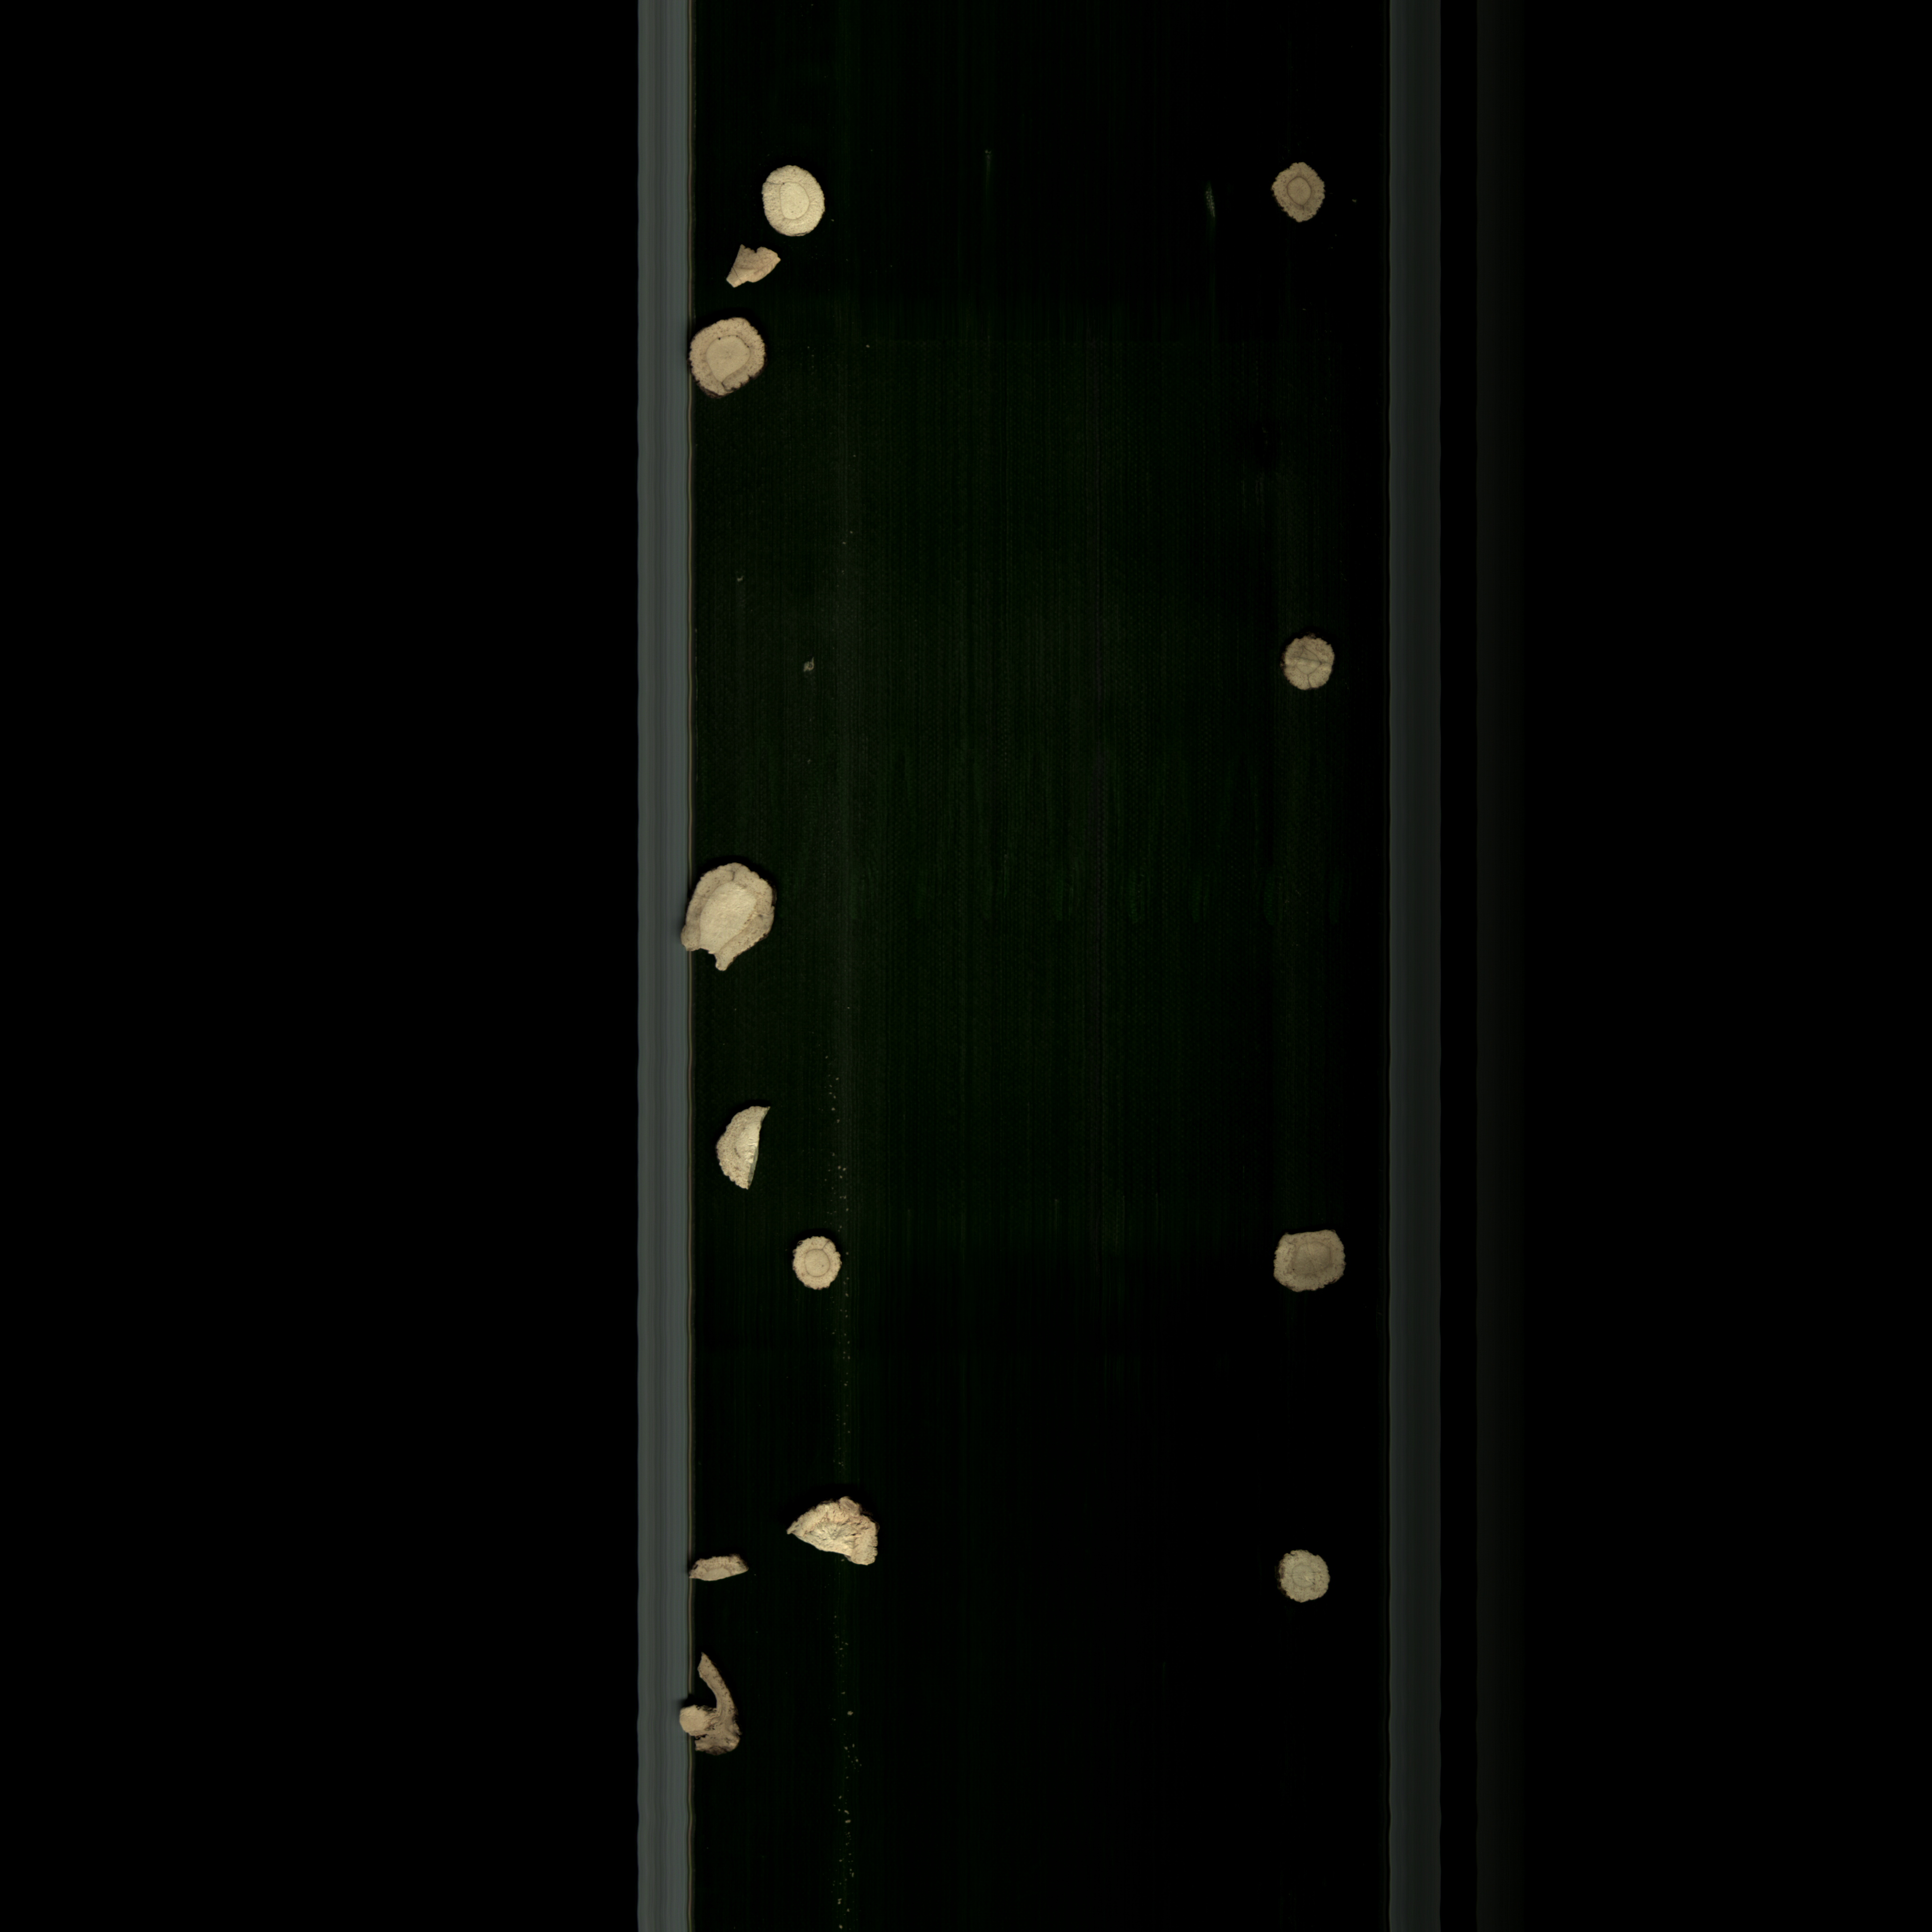debris: (672, 853, 778, 985), (784, 1486, 901, 1580), (672, 1652, 759, 1769), (708, 1095, 786, 1200)
dreg: (720, 237, 791, 297), (685, 1541, 755, 1594)
moldy: (688, 310, 782, 409), (1269, 1224, 1359, 1302), (1258, 152, 1330, 235)
